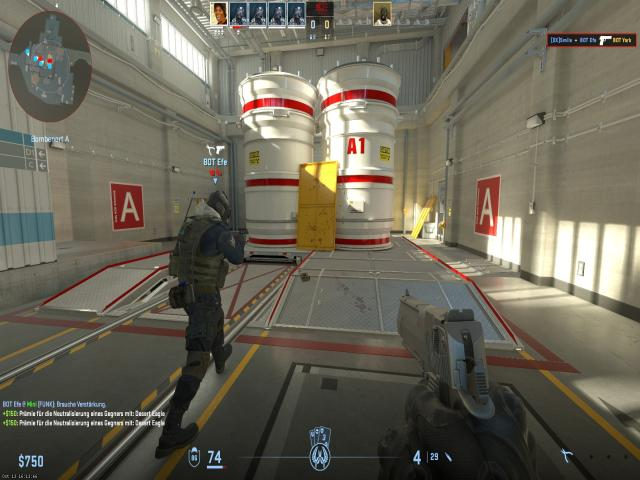Bomb: (299, 270, 310, 284)
CT: (173, 189, 239, 419)
CT-Head: (201, 187, 235, 231)
